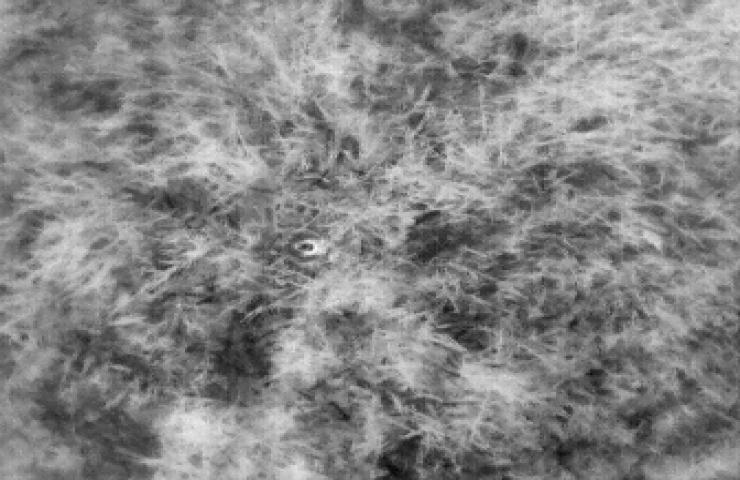landmines: (281, 225, 331, 271)
